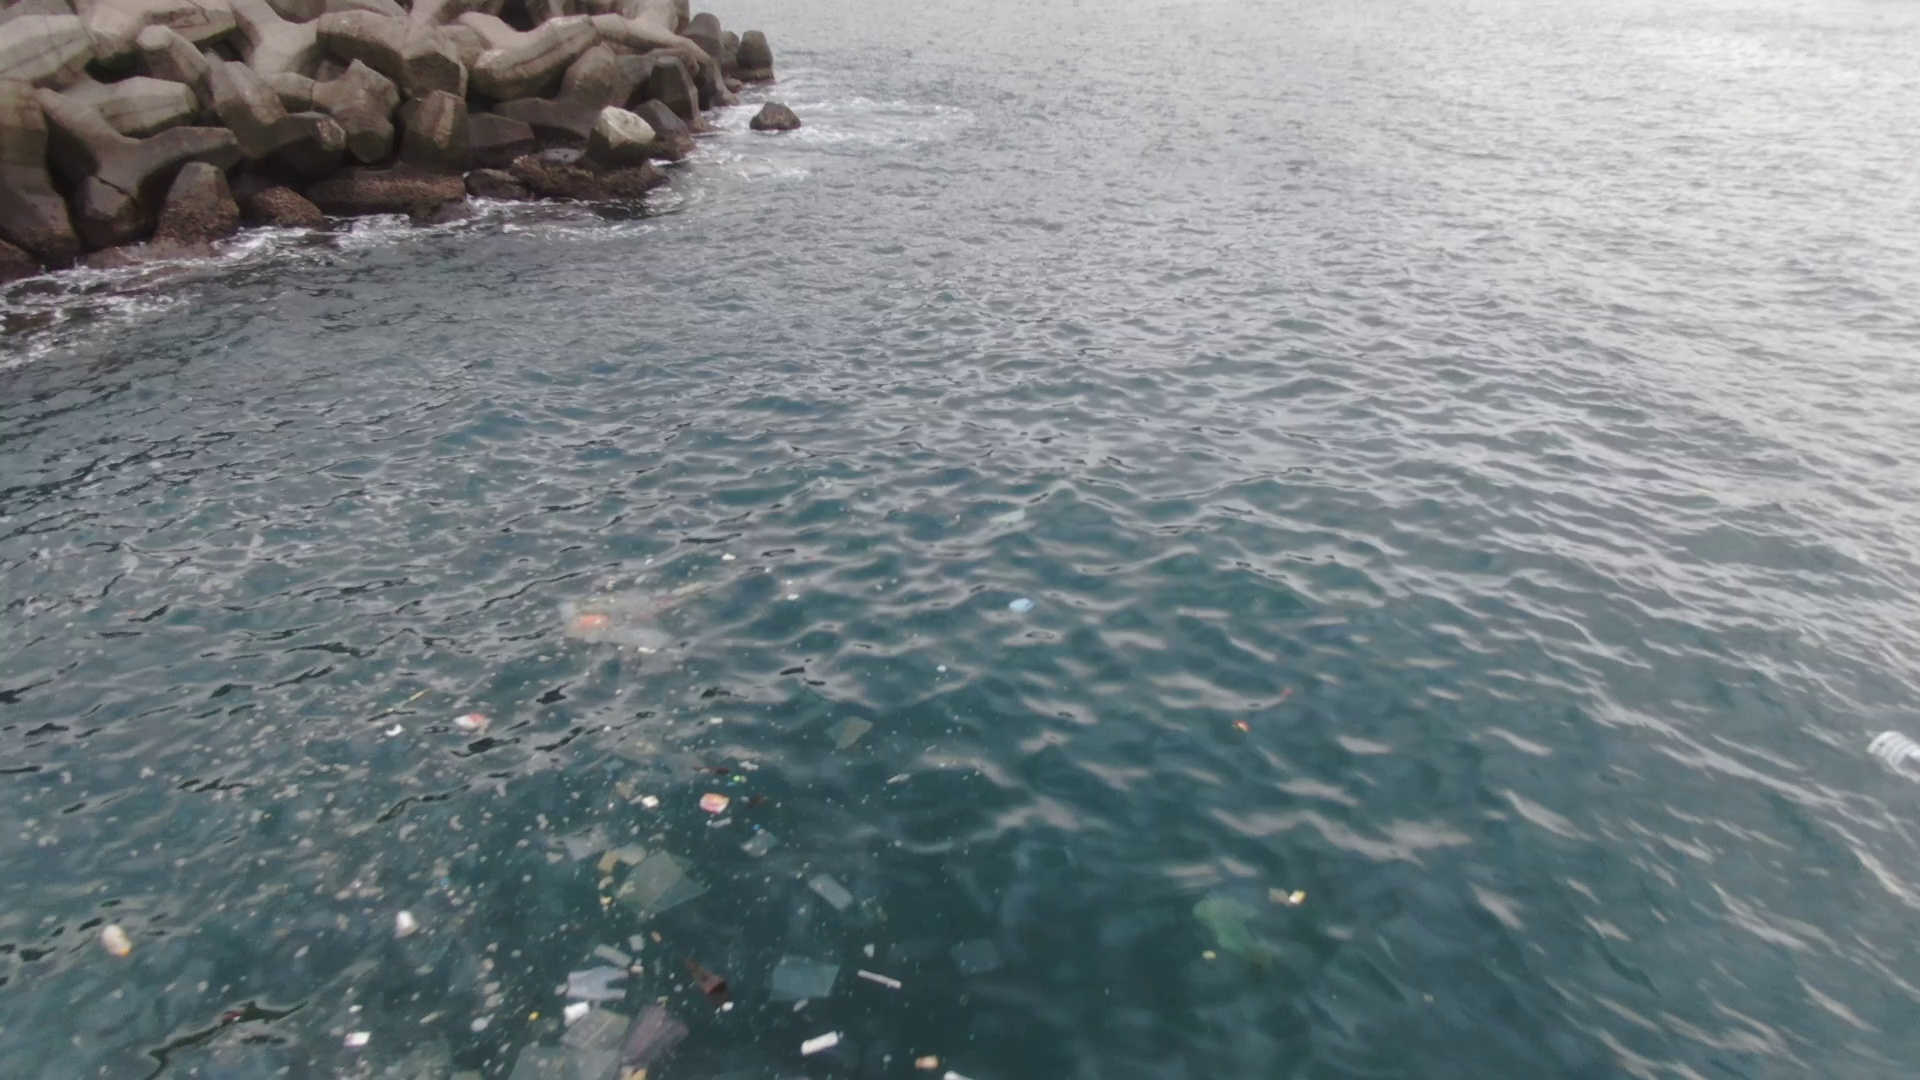garbage: (65, 549, 997, 1080), (1178, 861, 1328, 972), (1855, 708, 1920, 785)
